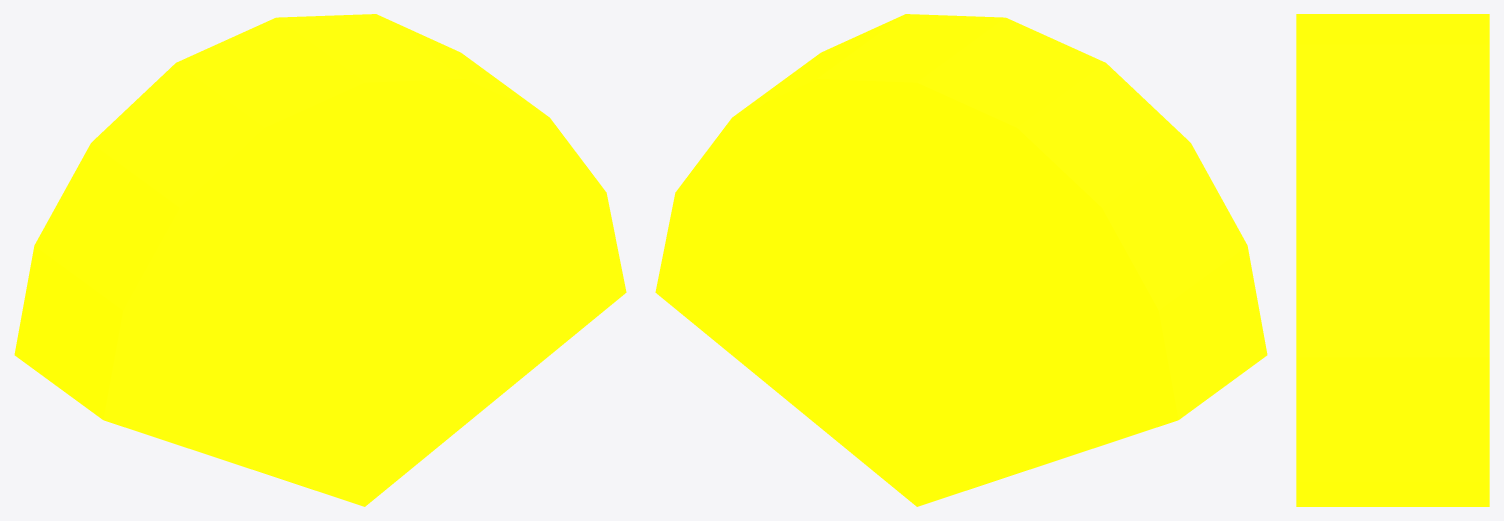
The model's file is pu_ghost.glb.
3 views of the same model, side by side, from view 1: azimuth 30°, elevation 25°; view 2: azimuth 150°, elevation 25°; view 3: azimuth 270°, elevation 25° (orthographic). The views are drawn at different scales.
Parts seen in each view (by area): view 1: pu_ghost; view 2: pu_ghost; view 3: pu_ghost.
Part boxes in pixels (left/top/right/bottom): pu_ghost: left=14, top=14, right=626, bottom=506; pu_ghost: left=655, top=14, right=1267, bottom=506; pu_ghost: left=1296, top=14, right=1489, bottom=506.
Size of the model in its own units: 0.68 by 0.527 by 0.2.
